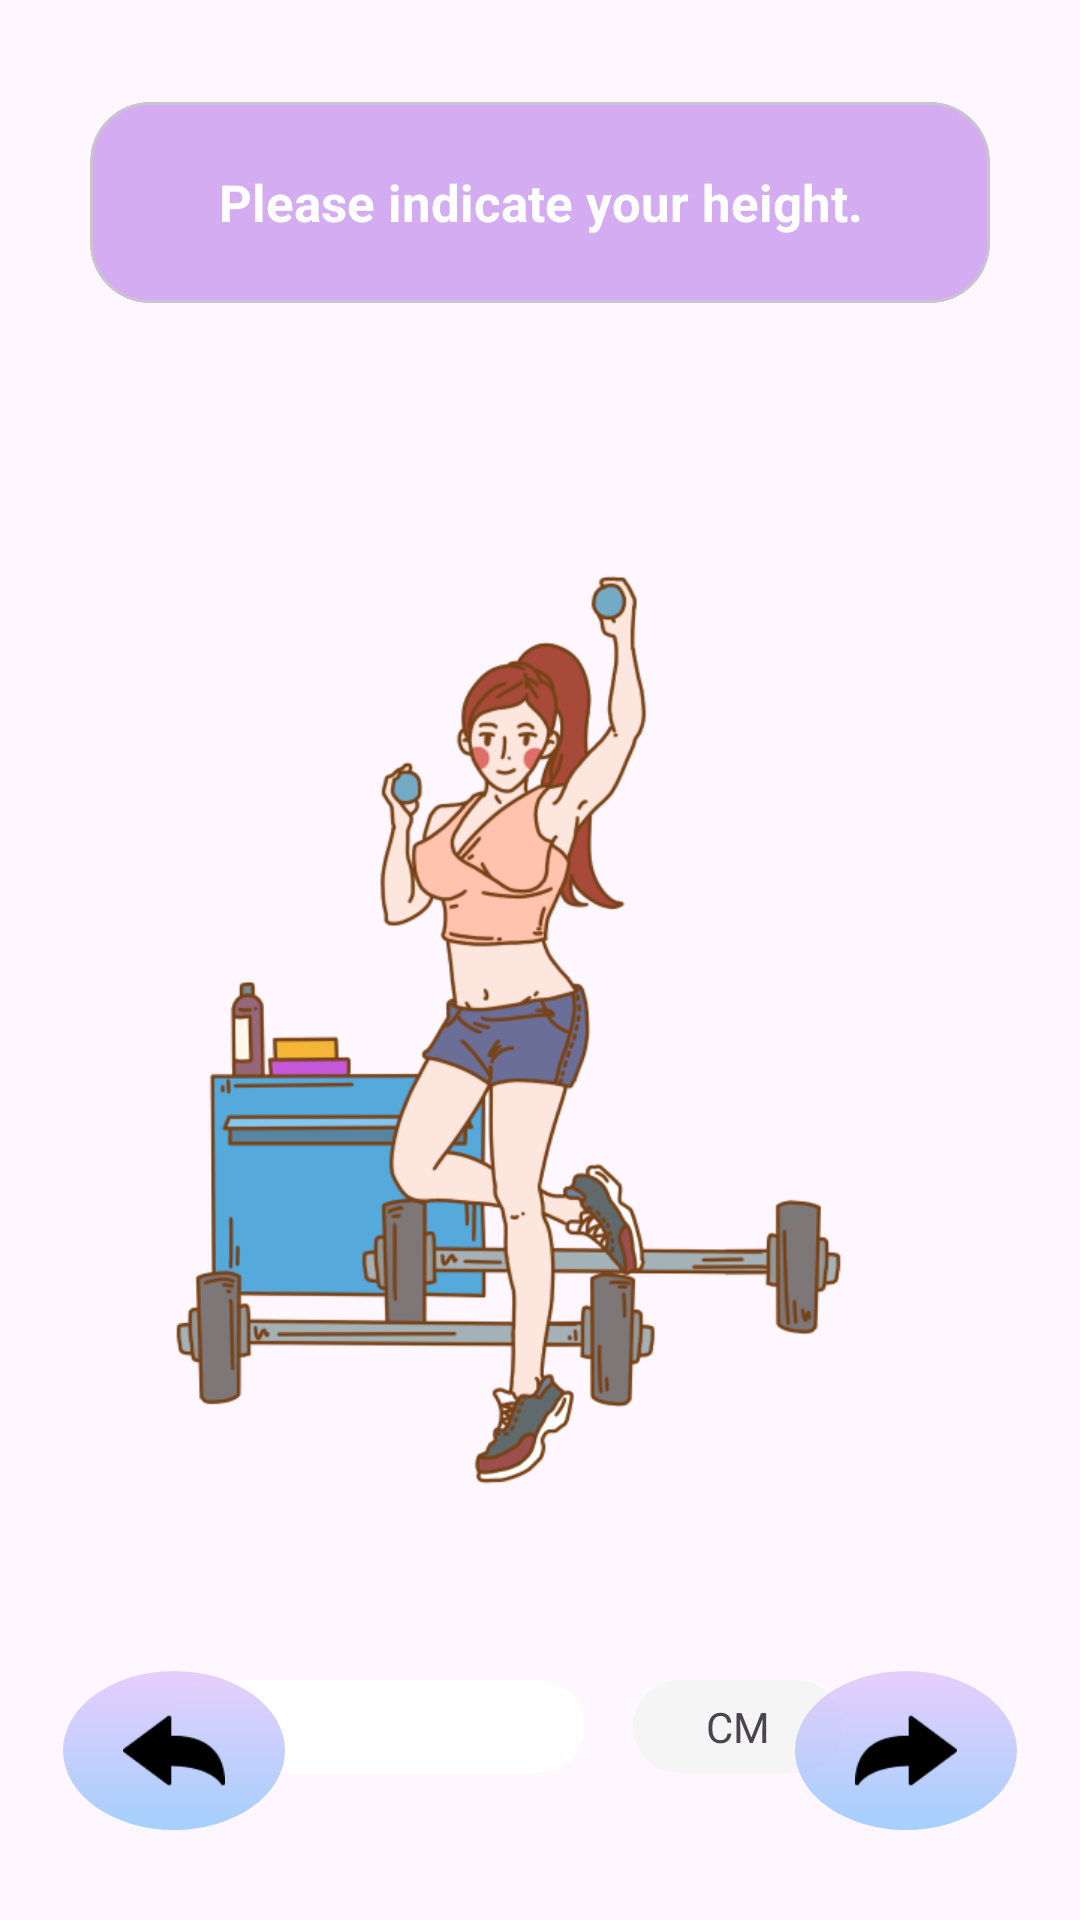

Point at icon controls on the screen. Image size 1080px×1920px, points as (x=x, y=y).
turn left: (x=174, y=1750)
turn right: (x=906, y=1750)
